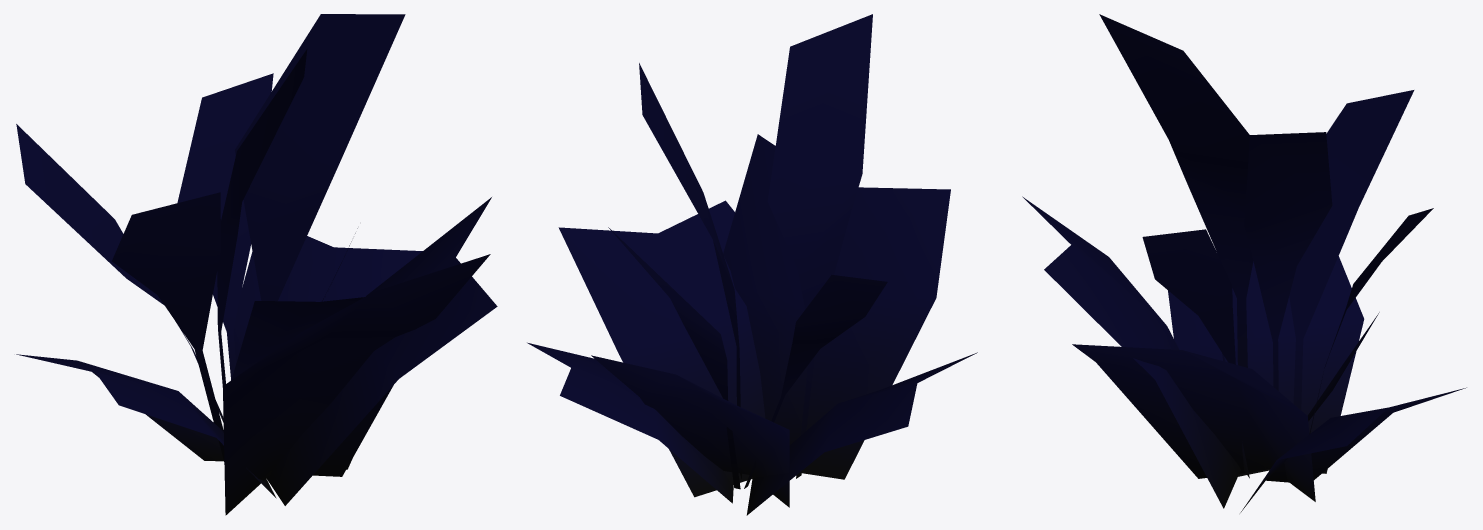
File: SM_Foliage_ReedB_02.fbx
The picture shows the model from 3 angles, left to right: view 1: azimuth 30°, elevation 25°; view 2: azimuth 150°, elevation 25°; view 3: azimuth 270°, elevation 25°; orthographic projection. The views are drawn at different scales.
Parts seen in each view (by area): view 1: SM_Foliage_ReedB_02; view 2: SM_Foliage_ReedB_02; view 3: SM_Foliage_ReedB_02.
Boxes of the visible parts, x1,y1,x2,y2 form: SM_Foliage_ReedB_02: (16, 14, 497, 515); SM_Foliage_ReedB_02: (527, 14, 977, 515); SM_Foliage_ReedB_02: (1022, 14, 1466, 512).
Bounding box in the file's own units: 122 × 115 × 127.
